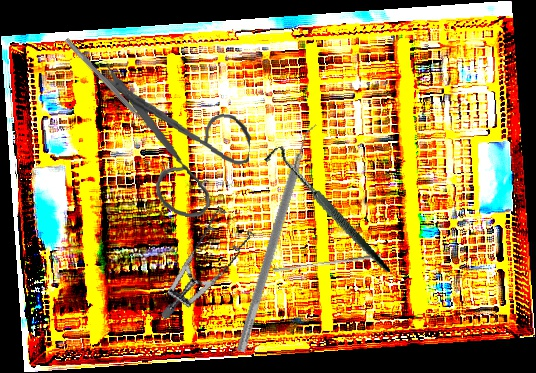Hook Surgical: (262, 127, 391, 296)
Iris Scissors: (86, 63, 257, 222)
Pusher: (272, 249, 382, 277)
Spatula Surgical: (235, 120, 322, 356), (59, 37, 154, 134)
Speculum: (133, 198, 271, 320)
